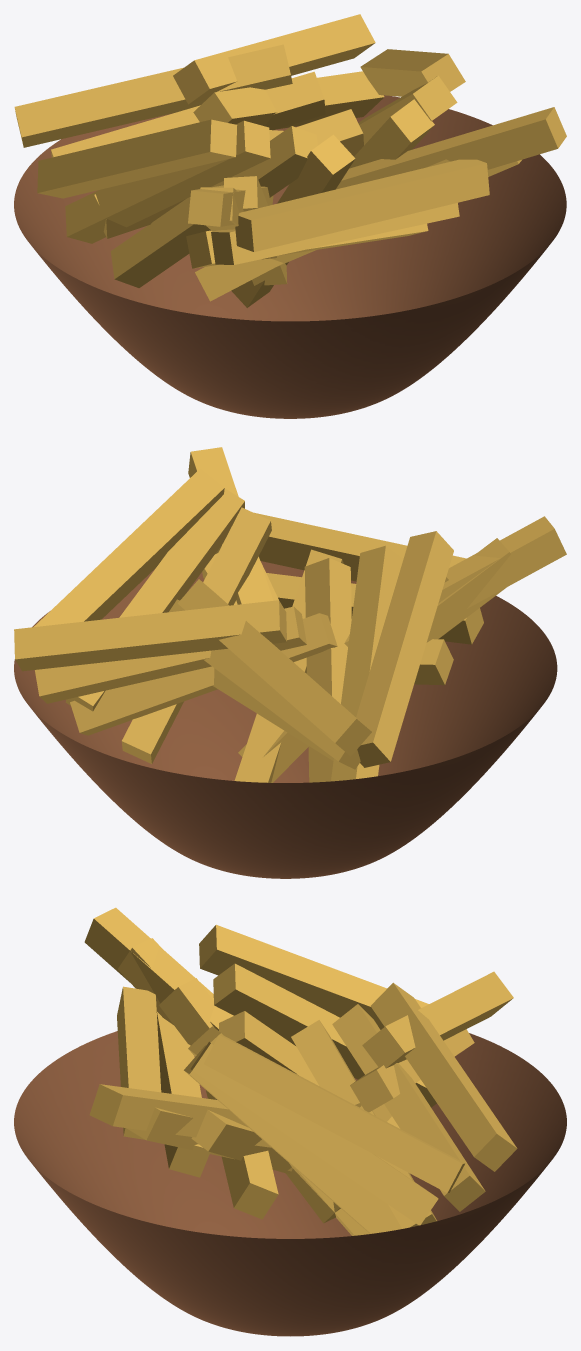
Rendered from fritas-1-hero.glb.
3 views of the same model, one above another, from view 1: azimuth 30°, elevation 25°; view 2: azimuth 150°, elevation 25°; view 3: azimuth 270°, elevation 25° (orthographic).
Bounding box in the file's own units: 0.15 × 0.0941 × 0.15.
